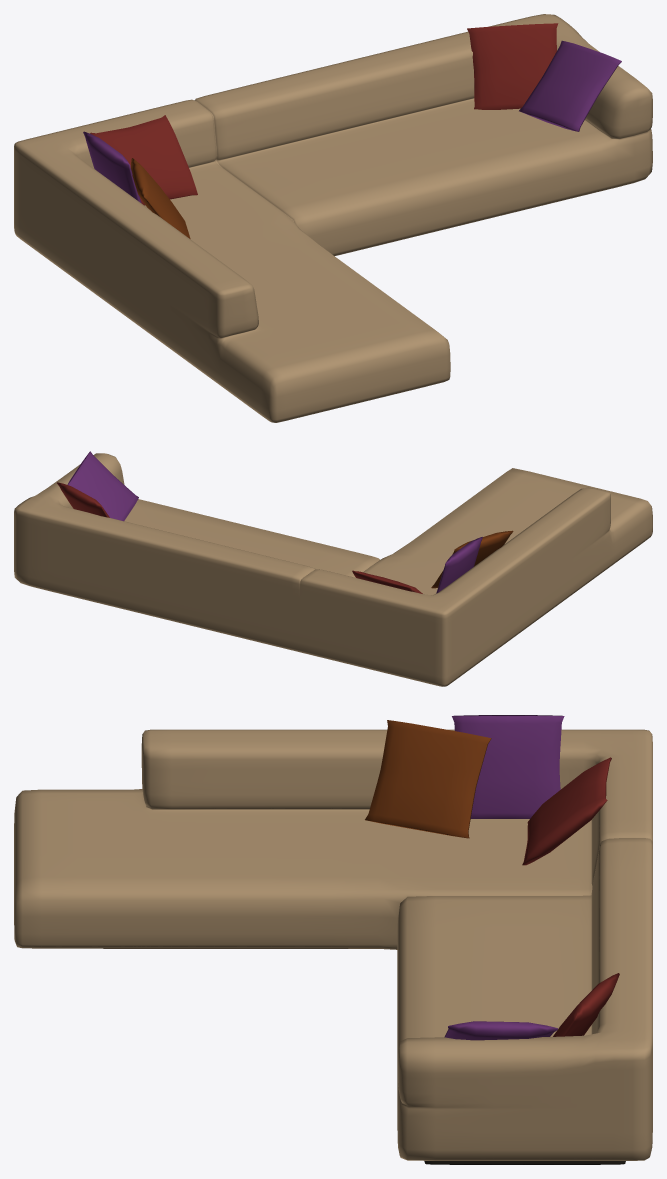
Rendered from sofa.obj.
3 renders of one model, top to bottom at view 1: azimuth 30°, elevation 25°; view 2: azimuth 150°, elevation 25°; view 3: azimuth 270°, elevation 25°, orthographic. The views are drawn at different scales.
Parts seen in each view (by area): view 1: sofa, pillow3, pillow4, pillow1, pillow2, pillow5; view 2: sofa, pillow4, pillow2, pillow3, pillow5, pillow1; view 3: sofa, pillow5, pillow2, pillow1, pillow4, pillow3.
Boxes of the visible parts, bbox=[...] form: sofa: bbox=[14, 14, 652, 422]; pillow3: bbox=[467, 23, 558, 109]; pillow4: bbox=[519, 40, 621, 131]; pillow1: bbox=[90, 115, 197, 205]; pillow2: bbox=[83, 131, 141, 203]; pillow5: bbox=[131, 158, 190, 238]; sofa: bbox=[14, 453, 652, 686]; pillow4: bbox=[67, 451, 138, 521]; pillow2: bbox=[436, 537, 482, 593]; pillow3: bbox=[57, 482, 109, 517]; pillow5: bbox=[431, 530, 513, 588]; pillow1: bbox=[352, 570, 422, 593]; sofa: bbox=[14, 729, 652, 1164]; pillow5: bbox=[365, 720, 491, 838]; pillow2: bbox=[452, 715, 564, 818]; pillow1: bbox=[522, 757, 611, 865]; pillow4: bbox=[444, 1021, 557, 1040]; pillow3: bbox=[553, 973, 619, 1036].
Bounding box in the file's own units: 6 × 1.38 × 5.
